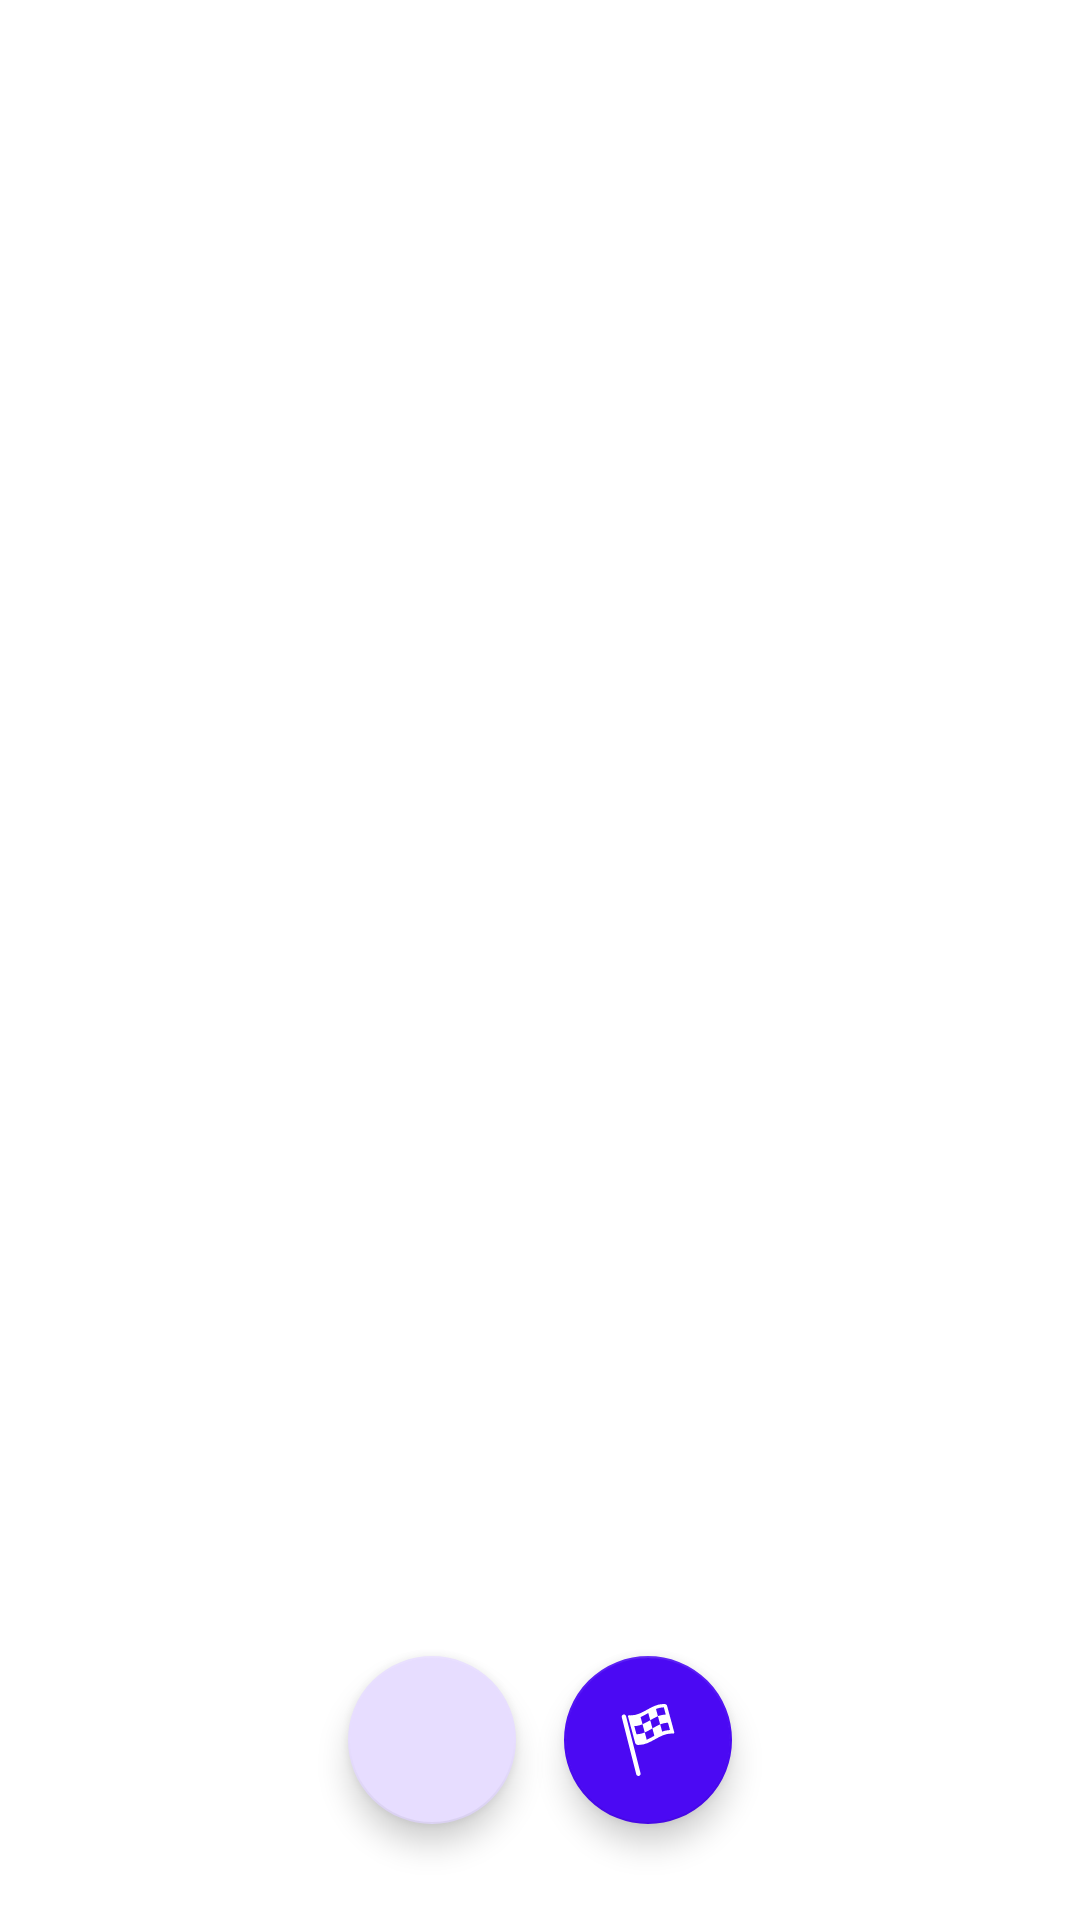

Icons on this 1080 x 1920 Android screen, each with its box as bbox(x1, y1, x2, y2):
Закончить: bbox(564, 1656, 732, 1824)
